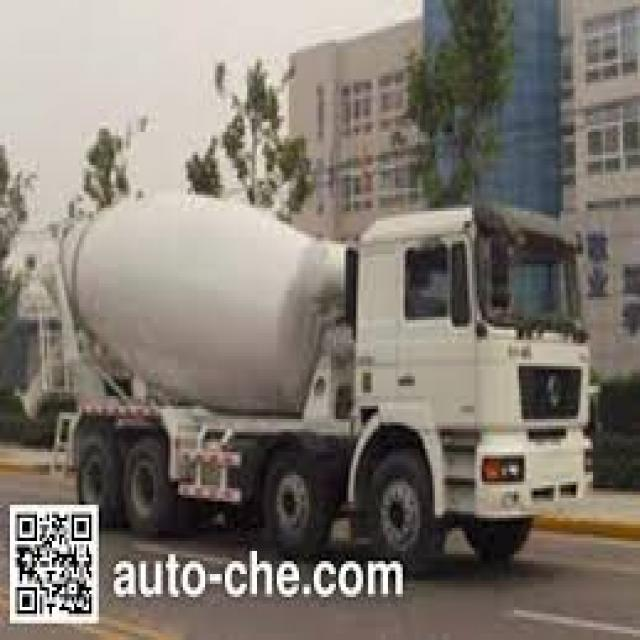Mixer Truck: (15, 187, 592, 583)
